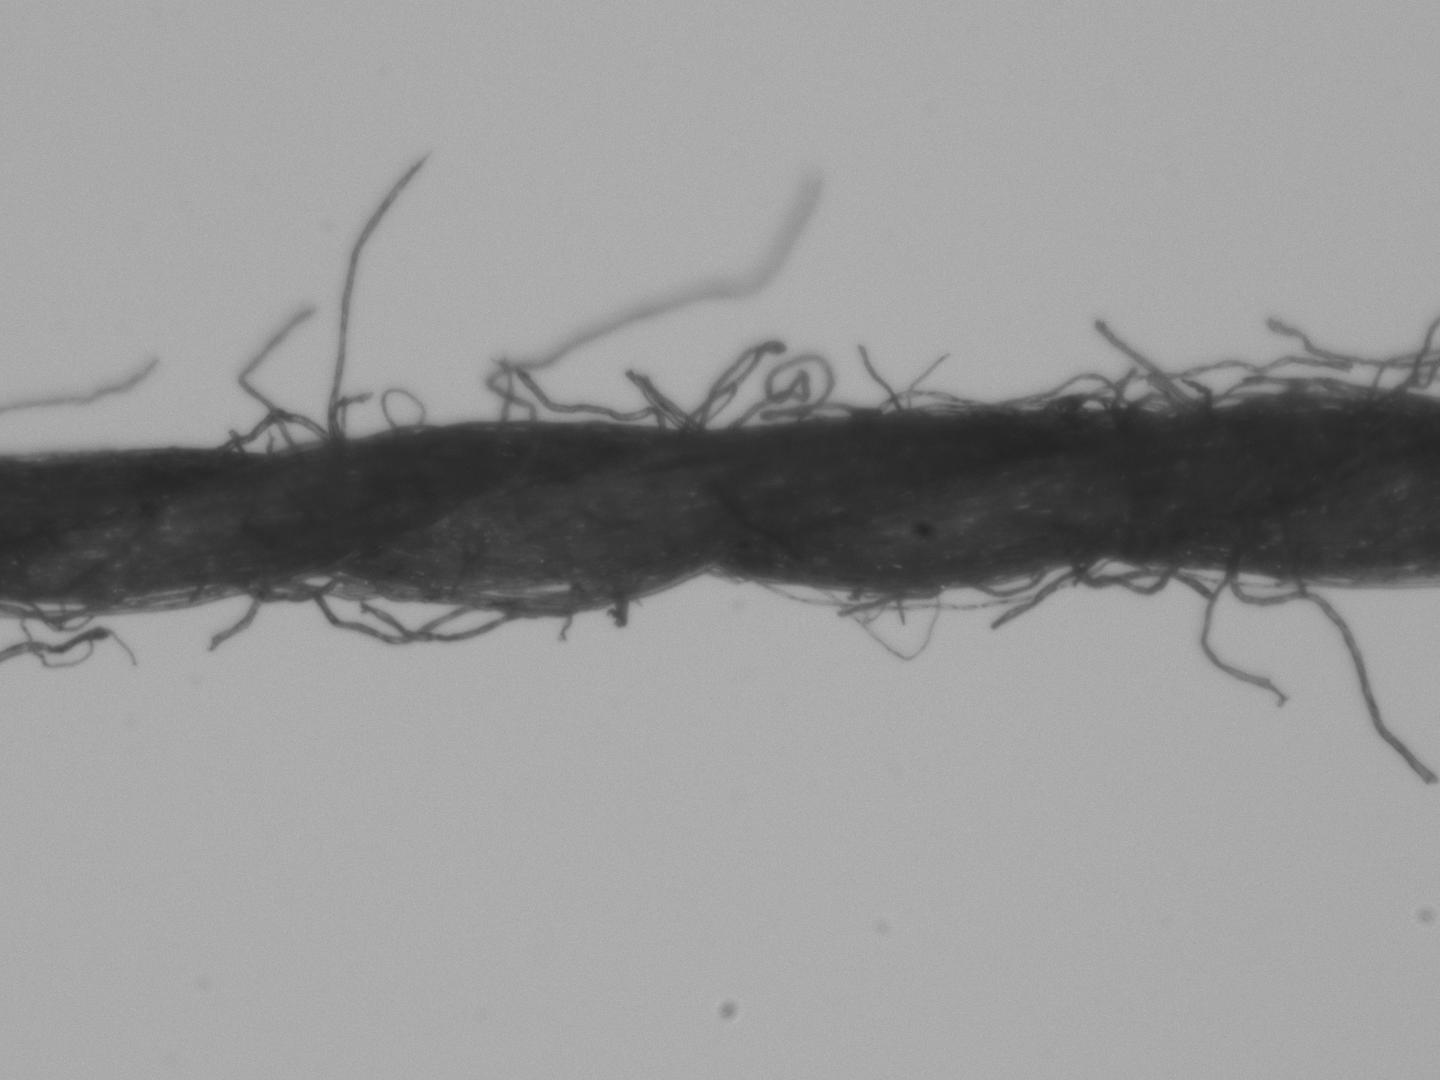loop_fiber: (700, 551, 1310, 663), (243, 572, 524, 643), (625, 343, 785, 432), (728, 349, 870, 428), (209, 410, 336, 462), (1014, 368, 1135, 413), (375, 378, 427, 438), (870, 388, 1007, 410)
protruding_fiber: (489, 166, 833, 423), (1279, 575, 1435, 783), (328, 162, 429, 442), (1200, 557, 1290, 704), (232, 305, 316, 455), (1099, 314, 1205, 413), (515, 365, 661, 436), (202, 580, 265, 653), (853, 338, 896, 415), (905, 347, 950, 410), (495, 352, 516, 422)
